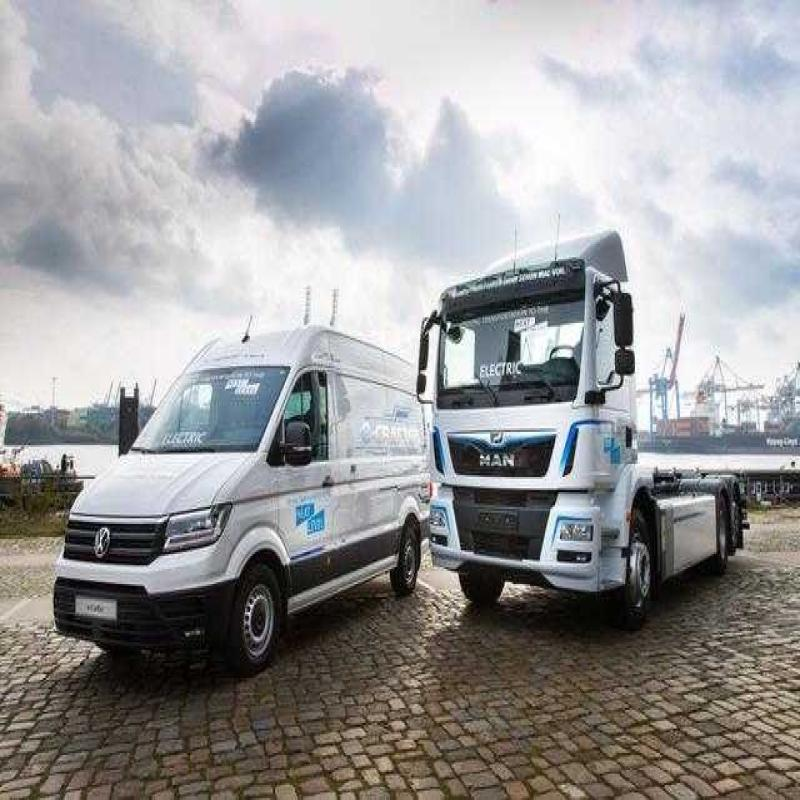bus: (412, 216, 754, 634)
